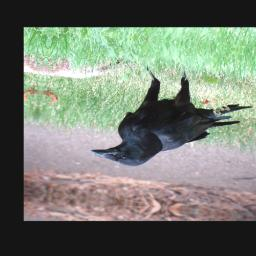Crow: (87, 59, 256, 180)
